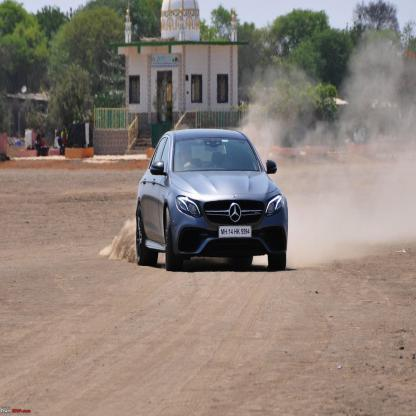vehicle: (136, 128, 287, 270)
